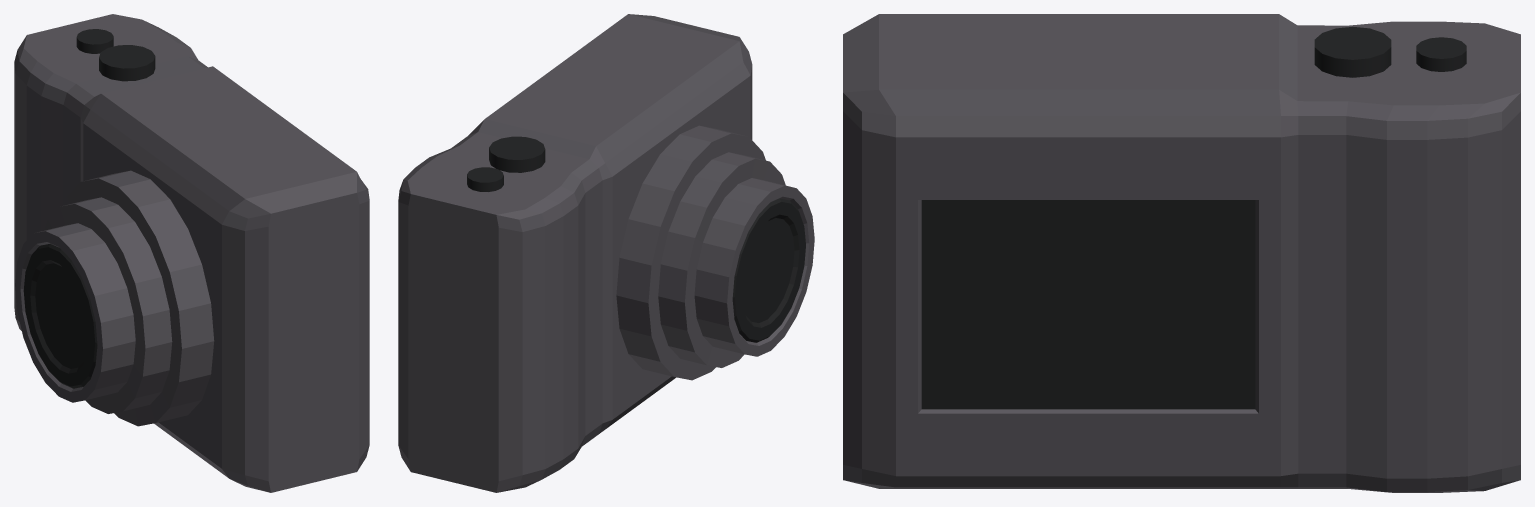
The model's file is Camera.fbx.
The picture shows the model from 3 angles, left to right: view 1: azimuth 30°, elevation 25°; view 2: azimuth 150°, elevation 25°; view 3: azimuth 270°, elevation 25°; orthographic projection. The views are drawn at different scales.
Parts seen in each view (by area): view 1: camera; view 2: camera; view 3: camera.
Boxes of the visible parts, bbox=[...] form: camera: bbox=[14, 14, 369, 492]; camera: bbox=[398, 14, 814, 492]; camera: bbox=[843, 14, 1520, 492].
Size of the model in its own units: 0.5244 by 0.6059 by 0.9181.
